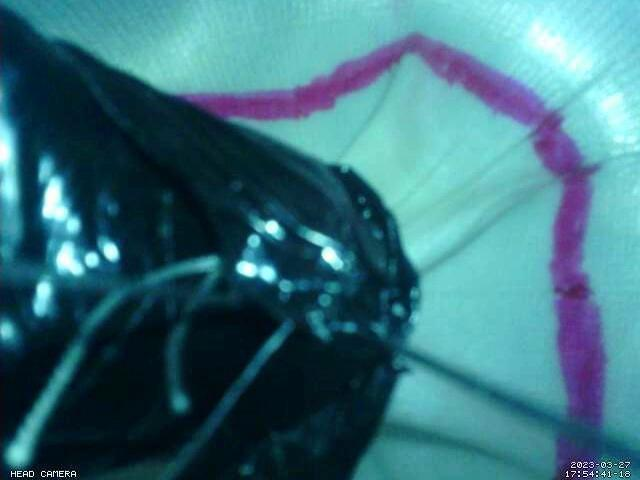red-circle: (178, 31, 608, 480)
